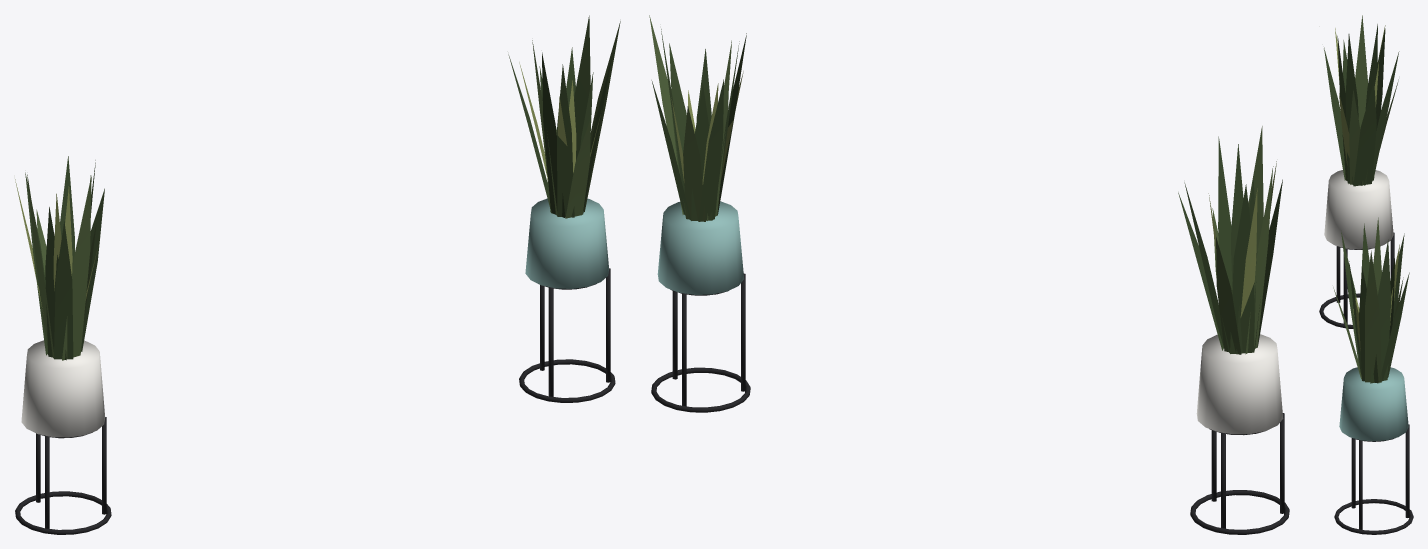
The picture shows the model from 3 angles, left to right: view 1: azimuth 30°, elevation 25°; view 2: azimuth 150°, elevation 25°; view 3: azimuth 270°, elevation 25°; orthographic projection. The views are drawn at different scales.
Parts seen in each view (by area): view 1: root; view 2: root; view 3: root.
Part boxes in pixels (box(x1,y1,x2,y2)): root: box(15, 15, 620, 534); root: box(649, 15, 1289, 534); root: box(1319, 15, 1413, 534).
Size of what is drawn, in the model's own units: 2.33 by 1.31 by 0.387.
